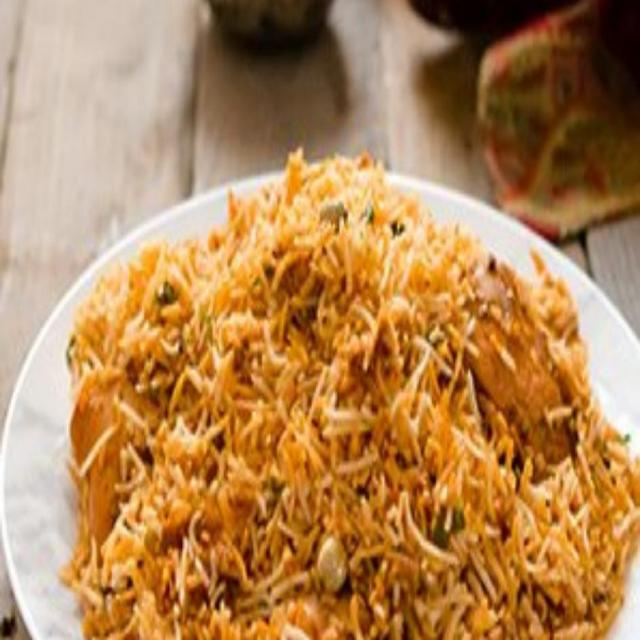chicken biryani: (113, 265, 621, 640)
